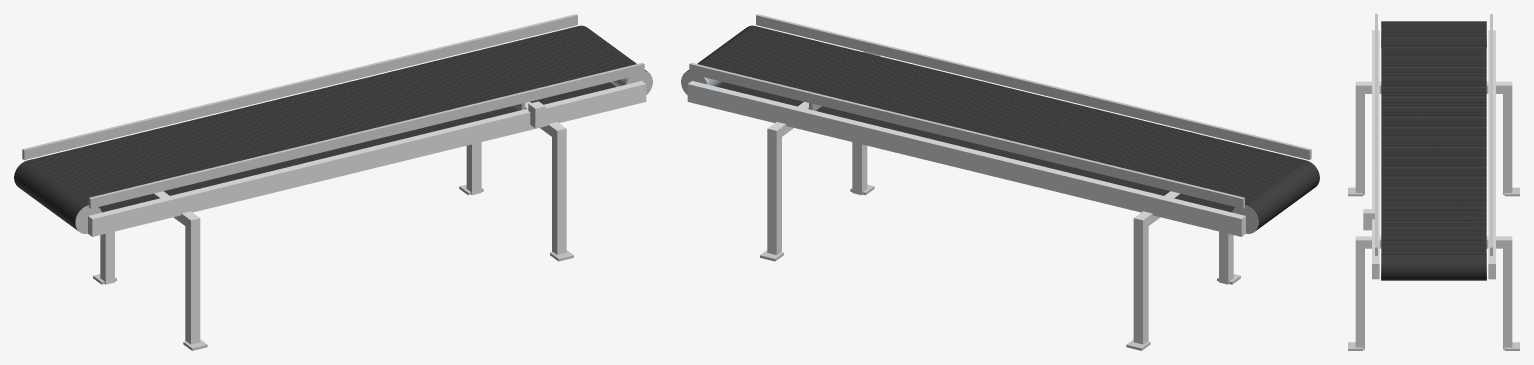
Rendered from conveyor-segment.glb.
The picture shows the model from 3 angles, left to right: view 1: azimuth 30°, elevation 25°; view 2: azimuth 150°, elevation 25°; view 3: azimuth 270°, elevation 25°; orthographic projection. The views are drawn at different scales.
Parts seen in each view (by area): view 1: belt_top, side_beam_1, side_skirt_0, side_skirt_1, belt_return, leg_frame_0, leg_frame_1, belt_wrap_0; view 2: belt_top, side_beam_0, side_skirt_0, side_skirt_1, belt_return, leg_frame_0, leg_frame_1, belt_wrap_0; view 3: belt_top, belt_wrap_1, leg_frame_1, leg_frame_0, side_beam_0, side_beam_1, side_skirt_0, side_skirt_1, leg_frame_1_top, leg_frame_0_top, stopper_actuator, belt_wrap_0.
Part boxes in pixels (<box>): belt_top: <box>28,26,631,204</box>; side_beam_1: <box>88,81,646,236</box>; side_skirt_0: <box>22,14,577,160</box>; side_skirt_1: <box>89,62,644,208</box>; belt_return: <box>98,82,616,212</box>; leg_frame_0: <box>100,226,200,344</box>; leg_frame_1: <box>466,137,566,254</box>; belt_wrap_0: <box>14,160,88,231</box>; belt_top: <box>702,26,1305,204</box>; side_beam_0: <box>687,81,1245,236</box>; side_skirt_0: <box>689,62,1244,208</box>; side_skirt_1: <box>756,14,1311,160</box>; belt_return: <box>717,82,1235,212</box>; leg_frame_0: <box>1133,226,1233,344</box>; leg_frame_1: <box>767,137,867,254</box>; belt_wrap_0: <box>1245,160,1319,231</box>; belt_top: <box>1381,22,1486,254</box>; belt_wrap_1: <box>1381,254,1486,280</box>; leg_frame_1: <box>1355,248,1512,349</box>; leg_frame_0: <box>1355,94,1512,194</box>; side_beam_0: <box>1488,30,1495,279</box>; side_beam_1: <box>1372,30,1379,279</box>; side_skirt_0: <box>1490,14,1492,255</box>; side_skirt_1: <box>1375,14,1377,255</box>; leg_frame_1_top: <box>1355,236,1512,248</box>; leg_frame_0_top: <box>1355,81,1512,93</box>; stopper_actuator: <box>1363,209,1374,230</box>; belt_wrap_0: <box>1381,21,1486,22</box>.
Bounding box in the file's own units: 3.39 × 0.9055 × 1.01.
Materials: 5 (1 with a texture image).
